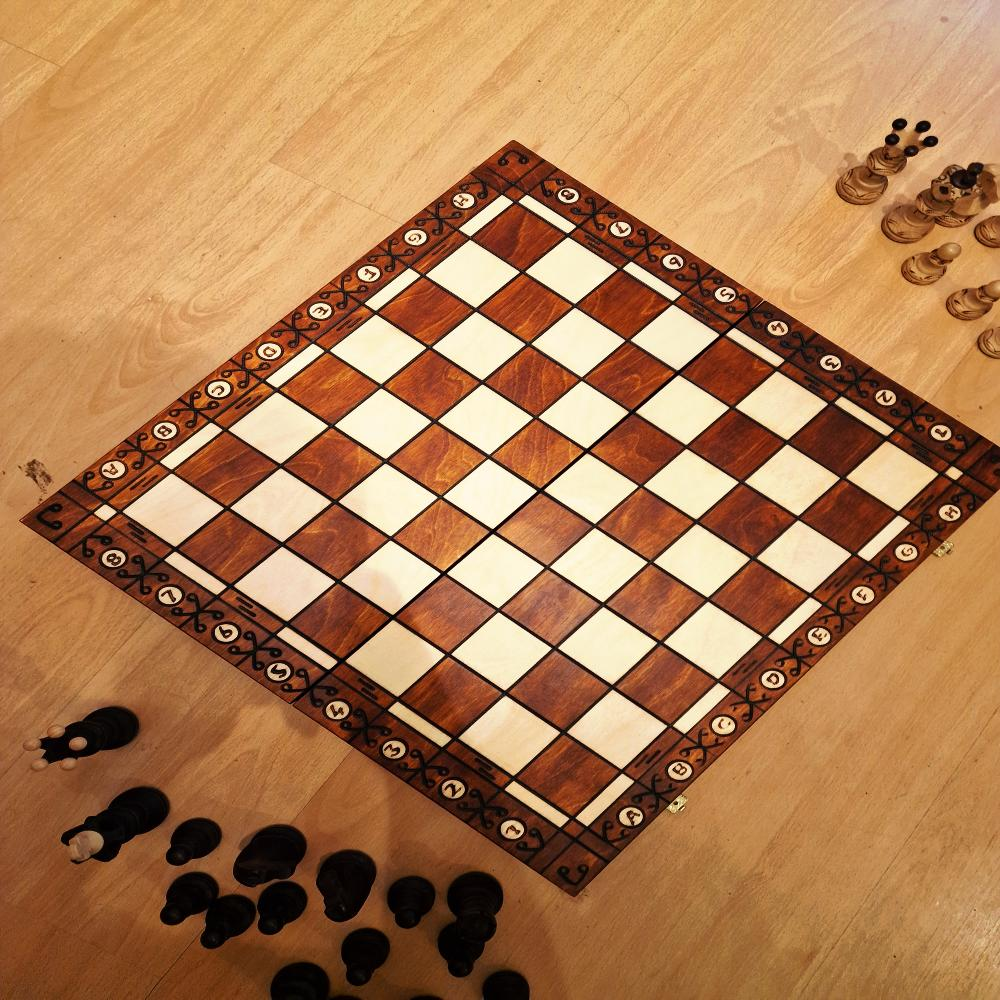A: (590, 784, 671, 851), (78, 443, 159, 504)
B: (636, 739, 718, 804), (128, 399, 212, 462)
C: (180, 360, 267, 422), (685, 694, 761, 760)
D: (732, 647, 819, 714), (228, 323, 314, 387)
E: (279, 285, 364, 346), (785, 607, 858, 670)
F: (828, 564, 901, 627), (333, 247, 406, 306)
G: (869, 520, 944, 583), (376, 211, 457, 269)
H: (913, 487, 993, 543), (429, 176, 505, 231)
chessfield: (339, 616, 450, 701), (514, 735, 625, 817), (507, 648, 616, 730), (660, 600, 767, 683), (566, 689, 673, 772), (399, 654, 507, 736), (457, 695, 560, 780), (601, 564, 708, 643), (286, 423, 390, 504), (444, 530, 552, 608), (451, 611, 554, 692), (338, 464, 446, 541), (282, 501, 390, 578), (616, 645, 718, 726), (175, 429, 280, 507), (551, 525, 653, 605), (228, 391, 335, 467), (555, 607, 662, 683), (499, 568, 603, 646), (286, 582, 390, 660), (119, 476, 227, 551), (175, 510, 280, 587), (432, 382, 539, 457), (231, 544, 335, 621), (338, 539, 443, 614), (390, 420, 492, 497), (326, 314, 429, 390), (639, 445, 739, 522), (394, 576, 496, 651), (232, 469, 335, 543), (712, 559, 812, 635), (277, 350, 377, 426), (337, 387, 438, 462), (493, 493, 595, 567), (656, 523, 755, 599), (700, 483, 799, 558), (382, 348, 482, 422), (490, 416, 590, 490), (788, 403, 889, 476), (543, 450, 641, 525), (479, 346, 581, 418), (445, 456, 540, 533), (635, 372, 735, 445), (428, 310, 530, 381), (391, 500, 490, 573), (744, 443, 841, 517), (587, 413, 688, 484), (844, 438, 942, 511), (803, 481, 899, 555), (597, 487, 695, 559), (533, 377, 628, 451), (584, 340, 680, 413), (426, 240, 522, 313), (475, 275, 575, 345), (534, 306, 627, 381), (522, 235, 618, 307), (752, 523, 851, 591), (691, 411, 787, 481), (379, 277, 475, 347), (470, 204, 566, 272), (578, 272, 674, 338), (680, 337, 774, 404), (736, 377, 831, 440), (633, 305, 721, 370)
innerChessboard: (122, 203, 942, 820)
